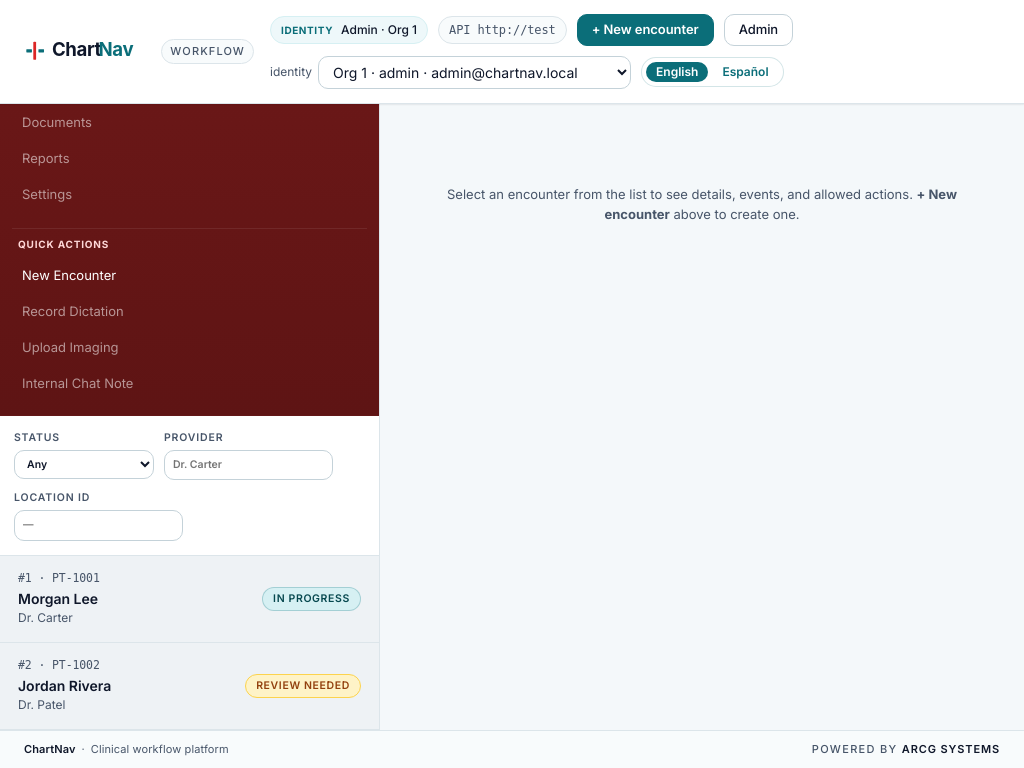
Test case: ChartNav frontend › status filter passes through to listEncounters and updates the list
(page scrolled)
Expected: the element with test id "identity-badge" is shown, [270, 16, 428, 44]
Expected: the element with test id "enc-list" is shown, [0, 556, 379, 730]
Select "in_progress" in the dropdown with test id "filter-status" at {"x": 84, "y": 464}, box [14, 450, 154, 479]
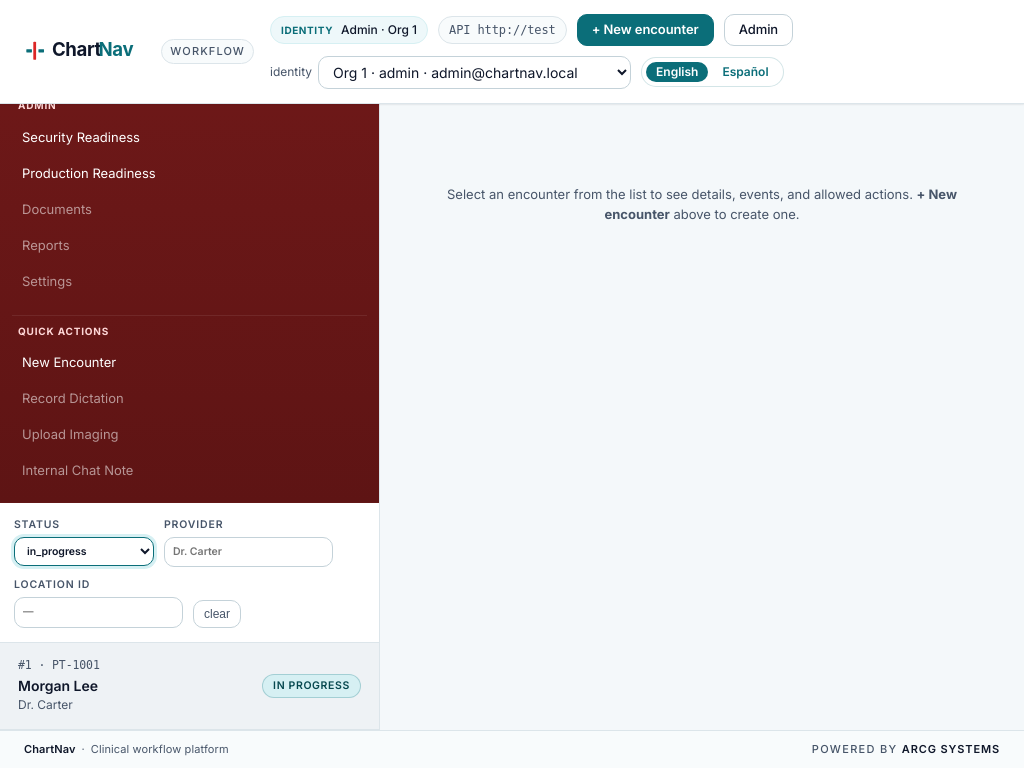
Expected: the text "Morgan Lee" is shown, [18, 676, 98, 694]
Expected: the button "Jordan Rivera" is gone
